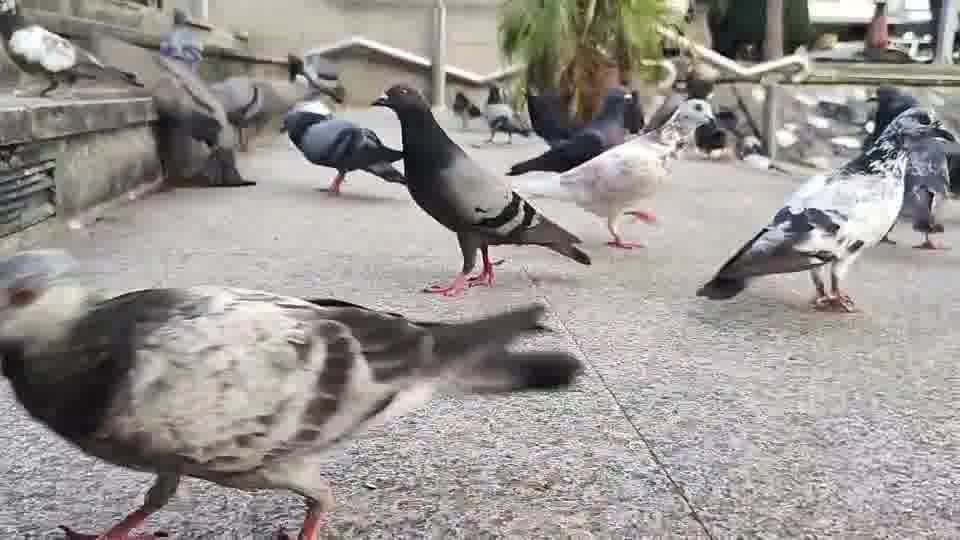Pigeon: (0, 246, 585, 539), (694, 105, 955, 313), (369, 83, 591, 297), (556, 96, 721, 249), (504, 85, 644, 176), (278, 100, 407, 195), (6, 23, 144, 97), (207, 76, 265, 151), (480, 85, 532, 144), (286, 51, 345, 103), (451, 91, 480, 129)
